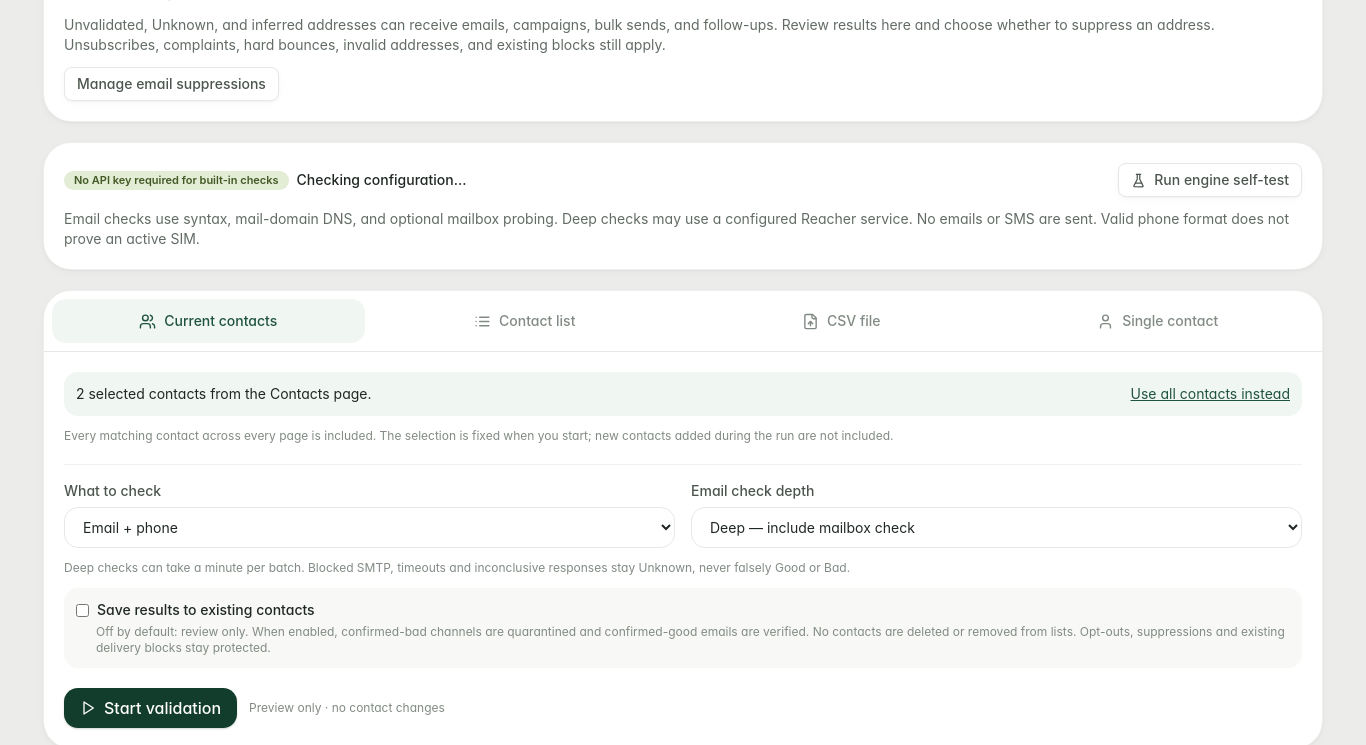
Test: Validator workspace › receives the exact selected IDs from Contacts, defaults to no changes
(page scrolled)
Expected: the text "2 selected contacts from the Contacts page." is shown, 76,384 -> 372,404
Expected: the checkbox labelled "Save results to existing contacts" is not checked, 76,604 -> 89,617
Step 1. Click the button "Start validation" → point(151, 708), box 64,688 -> 237,728
(page scrolled)
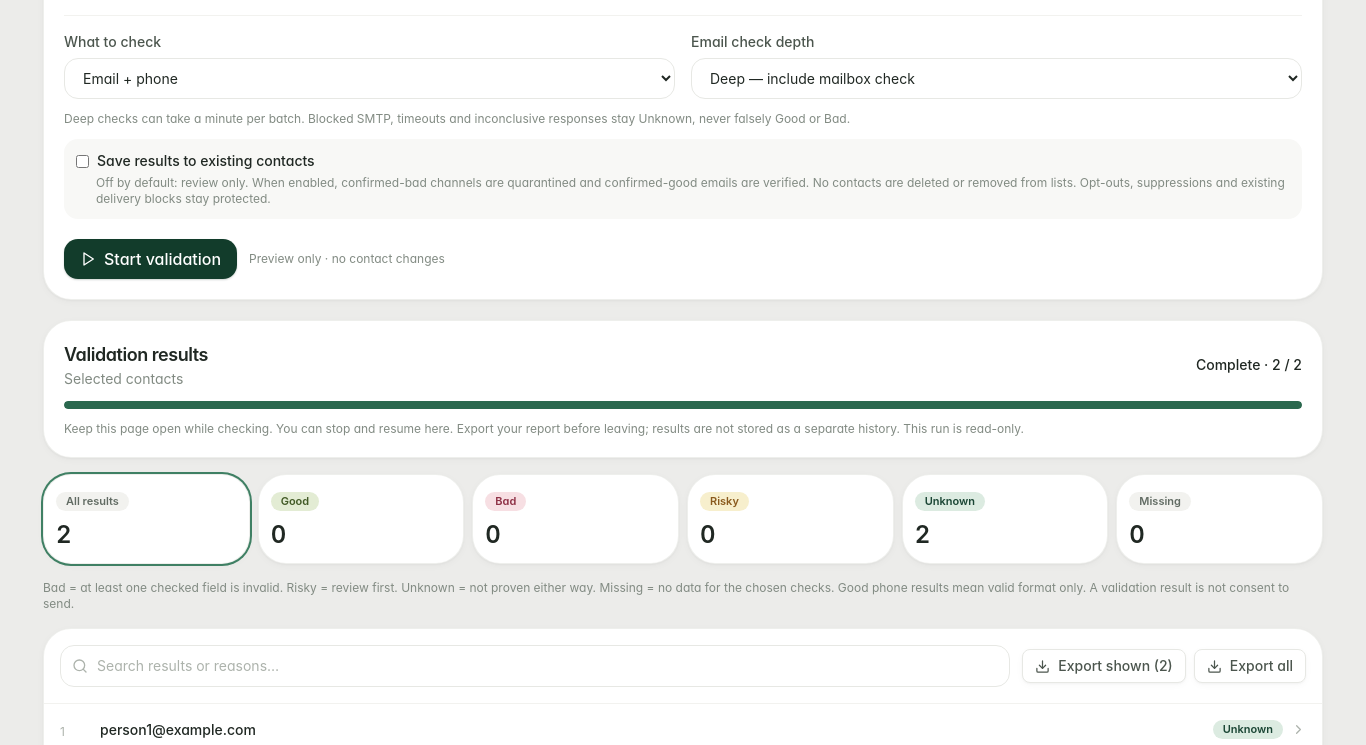
Now the text "Complete · 2 / 2" is shown, box 1196,355 -> 1302,375
